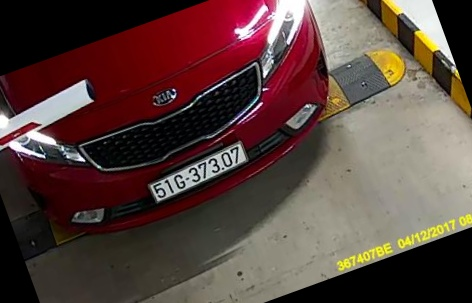plate: (145, 136, 252, 214)
